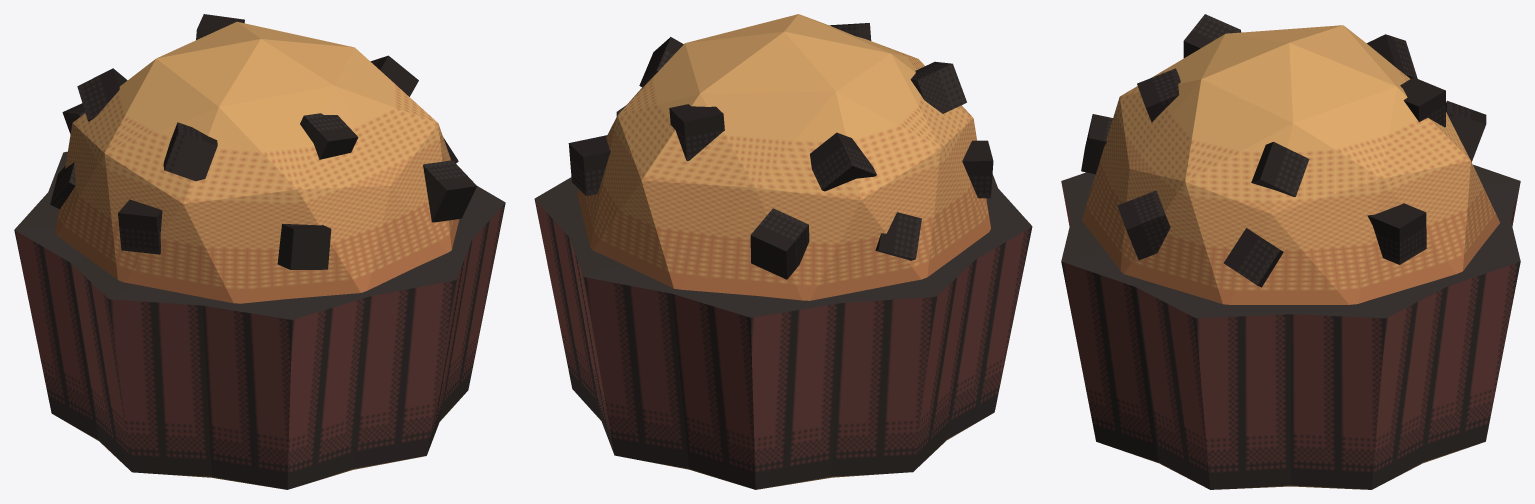
The model's file is Muffin.dae.
3 renders of one model, left to right at view 1: azimuth 30°, elevation 25°; view 2: azimuth 150°, elevation 25°; view 3: azimuth 270°, elevation 25°, orthographic.
Parts seen in each view (by area): view 1: Cylinder; view 2: Cylinder; view 3: Cylinder.
Part boxes in pixels (box(x1,y1,x2,y2)): Cylinder: box(14, 14, 505, 489); Cylinder: box(534, 14, 1032, 489); Cylinder: box(1061, 14, 1520, 489).
Bounding box in the file's own units: 2.03 × 2.03 × 1.78.
